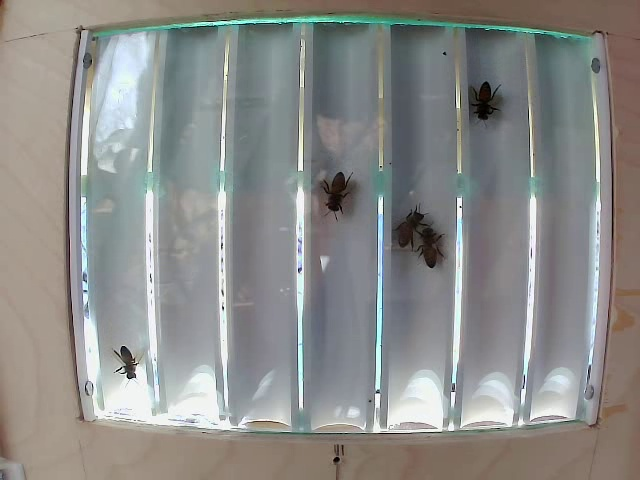bee: (466, 71, 503, 122), (103, 339, 145, 382), (311, 171, 346, 218), (416, 234, 438, 279), (391, 211, 416, 248)
